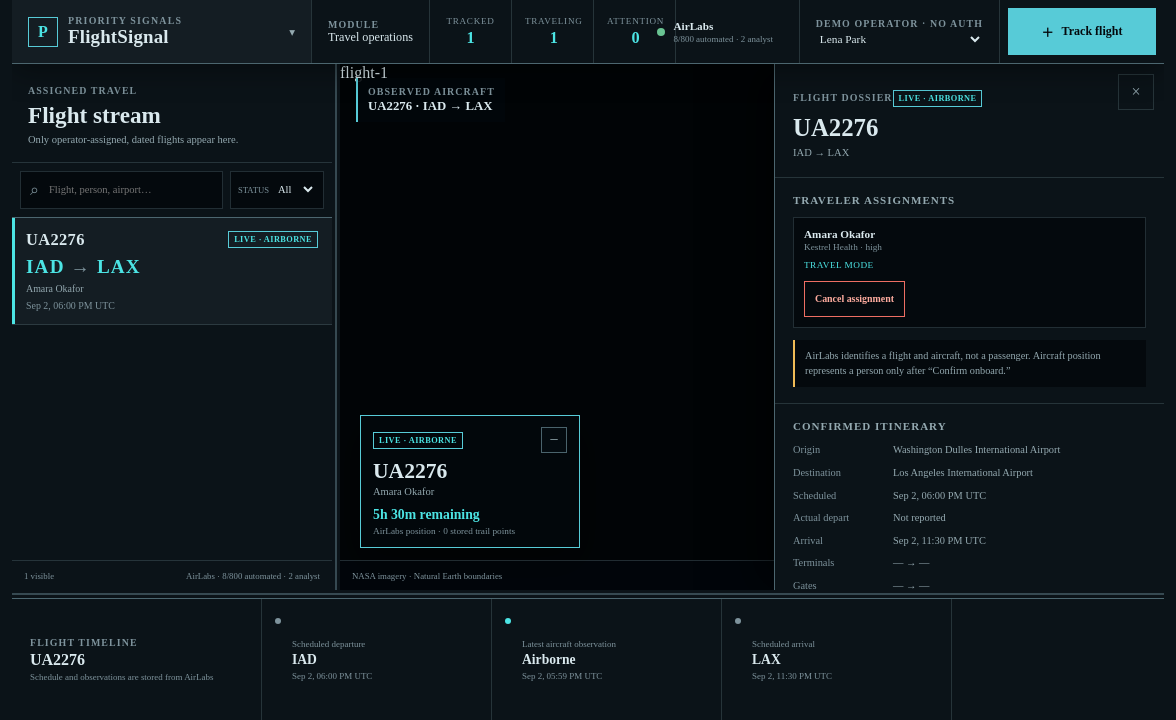
Test: FlightSignal workspace › collapses the map summary to the selected flight number
Click the button named "Minimize UA2276 flight summary" at (554, 440), box x1=541 y1=427 x2=567 y2=453
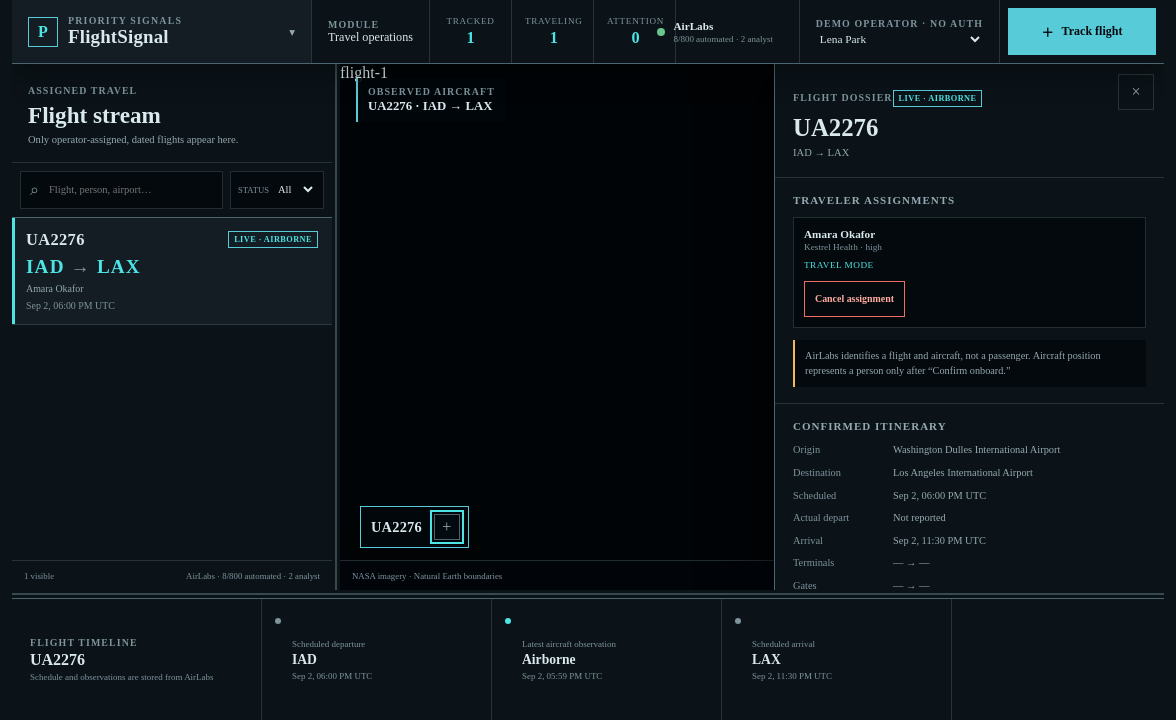
Expected: the element named "Expand UA2276 flight summary" shows "UA2276", x1=371 y1=518 x2=422 y2=534
Result: the element named "Expand UA2276 flight summary" no longer shows "AirLabs position" at x1=360 y1=506 x2=469 y2=548
Click the button named "Expand UA2276 flight summary" at (447, 527), box x1=434 y1=514 x2=460 y2=540
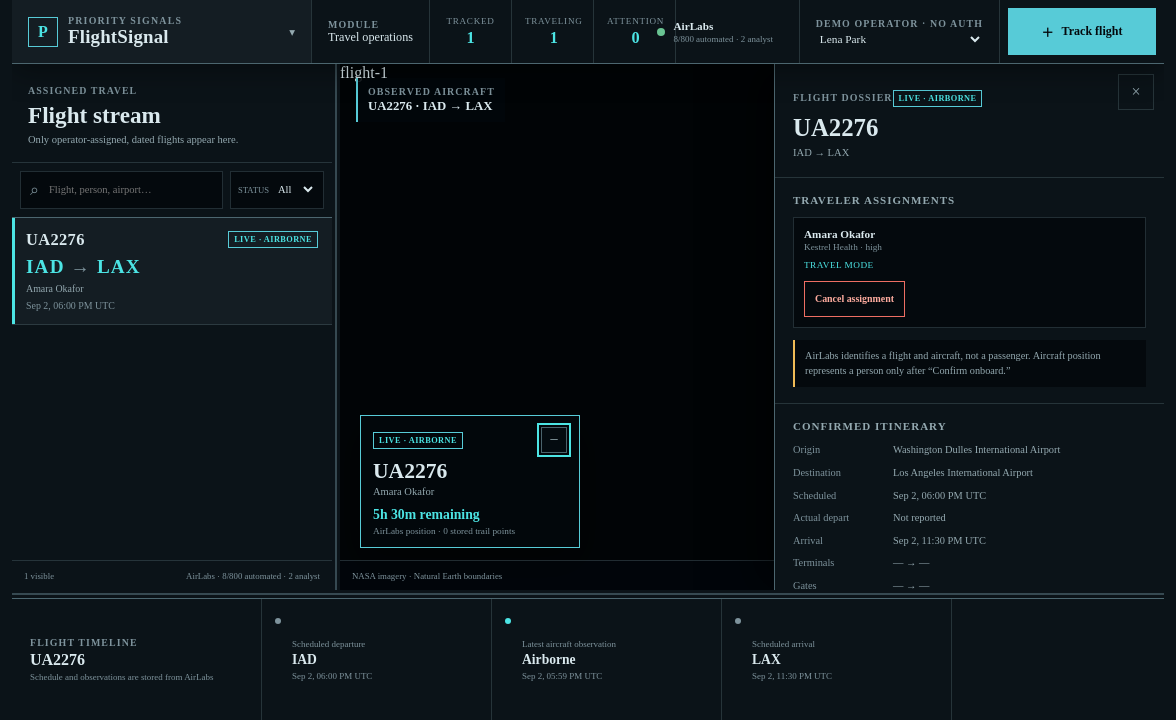
Result: the button named "Minimize UA2276 flight summary" is expanded at x1=541 y1=427 x2=567 y2=453
